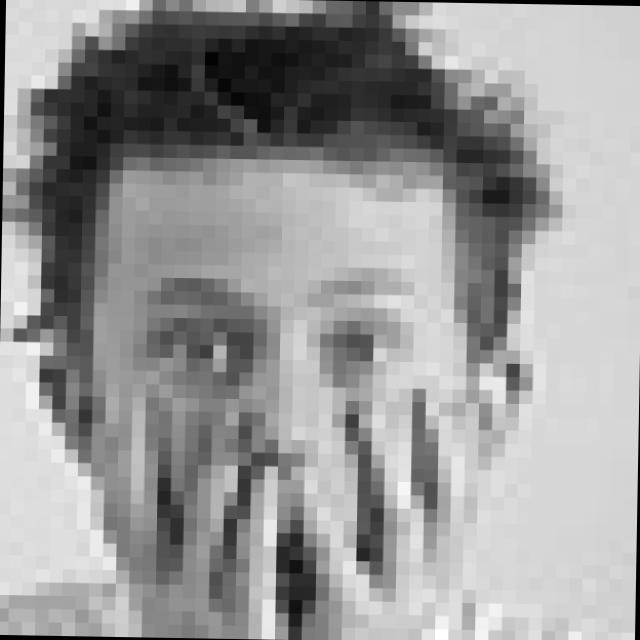fear: (135, 259, 430, 614)
